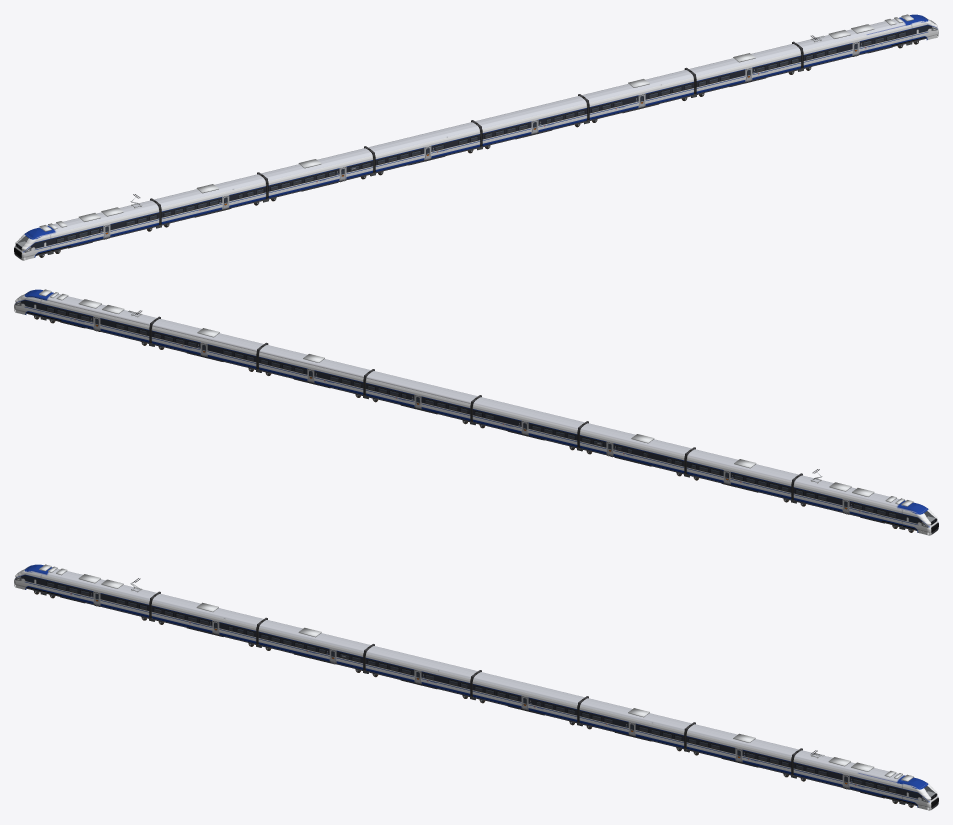
File: DART_przed_szyby.glb
3 views of the same model, one above another, from view 1: azimuth 30°, elevation 25°; view 2: azimuth 150°, elevation 25°; view 3: azimuth 330°, elevation 25° (orthographic).
Visible parts, largest first — view 1: DA_czlon1, DA_czlon8, DA_czlon5, DA_czlon4, DA_czlon2, DA_czlon7, DA_czlon6, DA_czlon3, DA_guma, DA_rama, DA_dach; view 2: DA_czlon1, DA_czlon8, DA_czlon5, DA_czlon4, DA_czlon2, DA_czlon7, DA_czlon6, DA_czlon3, DA_guma, DA_rama, DA_dach; view 3: DA_czlon8, DA_czlon1, DA_czlon5, DA_czlon4, DA_czlon6, DA_czlon3, DA_czlon2, DA_czlon7, DA_guma, DA_rama, DA_dach.
Part boxes in pixels (x1,y1,x2,y2): DA_czlon1: (14,200,159,257); DA_czlon8: (796,14,938,67); DA_czlon5: (475,96,587,145); DA_czlon4: (368,122,480,172); DA_czlon2: (154,174,266,224); DA_czlon7: (689,44,801,93); DA_czlon6: (582,70,694,119); DA_czlon3: (261,148,373,198); DA_guma: (56,32,906,242); DA_rama: (36,38,926,255); DA_dach: (39,14,913,231); DA_czlon1: (793,475,938,532); DA_czlon8: (14,289,156,342); DA_czlon5: (365,371,477,420); DA_czlon4: (472,397,584,447); DA_czlon2: (686,449,798,499); DA_czlon7: (151,319,263,368); DA_czlon6: (258,345,370,394); DA_czlon3: (579,423,691,473); DA_guma: (46,307,896,517); DA_rama: (26,313,916,530); DA_dach: (39,289,913,506); DA_czlon8: (793,750,938,807); DA_czlon1: (14,564,156,617); DA_czlon5: (472,672,584,721); DA_czlon4: (365,646,477,695); DA_czlon6: (579,698,691,748); DA_czlon3: (258,620,370,669); DA_czlon2: (151,593,263,643); DA_czlon7: (686,724,798,774); DA_guma: (46,582,896,792); DA_rama: (26,588,916,805); DA_dach: (39,564,913,781).
Bounding box in the file's own units: 150 × 5.6 × 2.96.
Materials: 22 (1 with a texture image).
